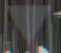Give way: (4, 2, 52, 43)
